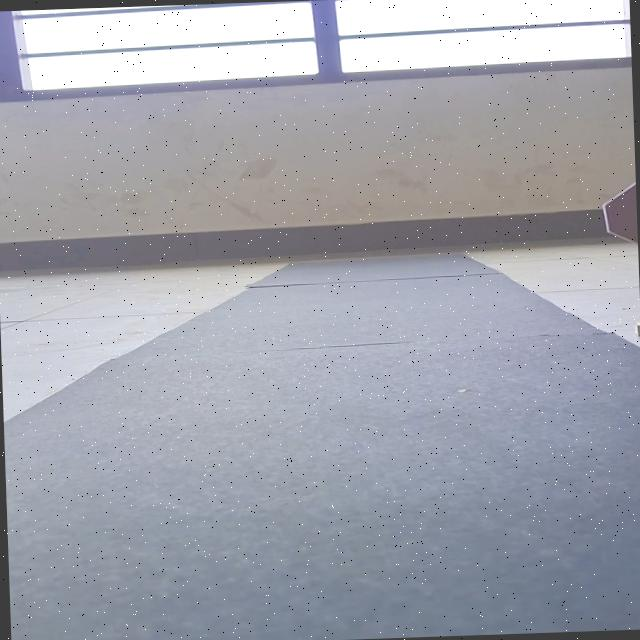Stop: (600, 179, 638, 250)
